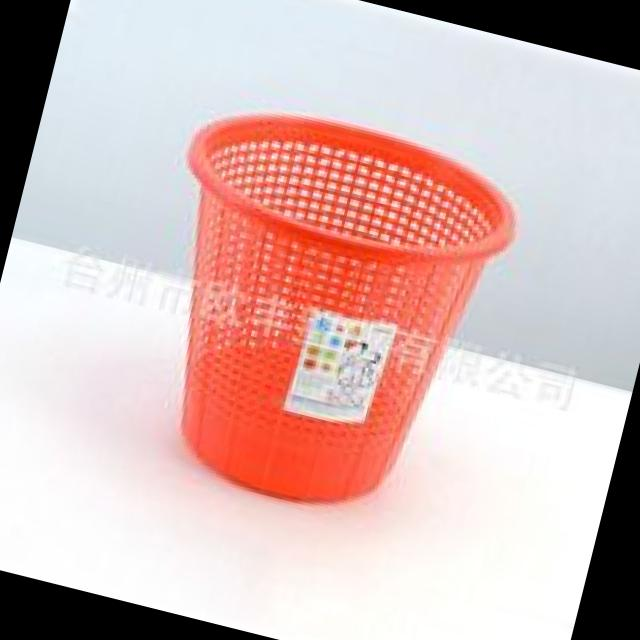dustbin: (103, 74, 538, 548)
